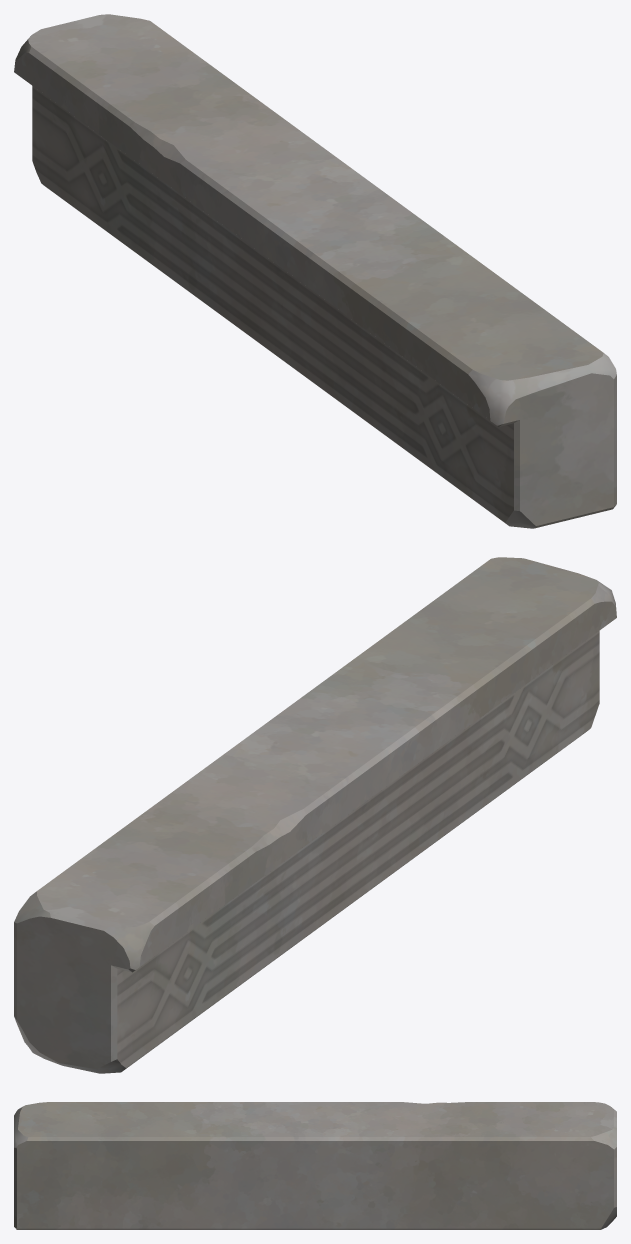
Rendered from SM_Pillar_Horizontal.fbx.
3 views of the same model, one above another, from view 1: azimuth 30°, elevation 25°; view 2: azimuth 150°, elevation 25°; view 3: azimuth 270°, elevation 25° (orthographic). The views are drawn at different scales.
Parts seen in each view (by area): view 1: SM_Pillar_Horizontal_LOD0; view 2: SM_Pillar_Horizontal_LOD0; view 3: SM_Pillar_Horizontal_LOD0.
Part boxes in pixels (x1=…): SM_Pillar_Horizontal_LOD0: x1=14, y1=14, x2=616, y2=528; SM_Pillar_Horizontal_LOD0: x1=14, y1=557, x2=616, y2=1073; SM_Pillar_Horizontal_LOD0: x1=14, y1=1102, x2=616, y2=1229.
Bounding box in the file's own units: 87.98 × 600 × 102.
1 material, 1 textured.
